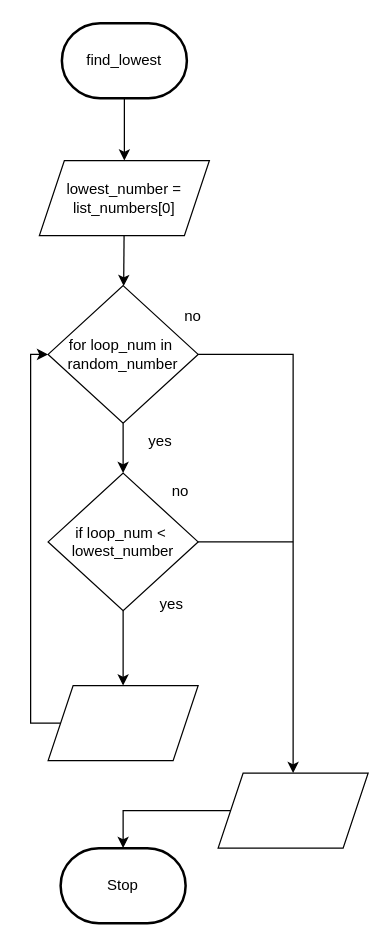
Some shapes in this 390 by 945 pixel diagram are drawn without their labels. The shapes that lost their labels are listed below. From the top down, each one's centre as x and y in pixels, then its label:
(x=122, y=722): lowest_number = loop_num
(x=292, y=810): return lowest_number
